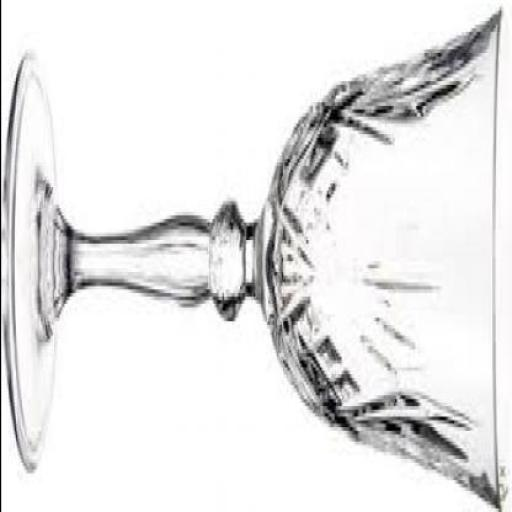glass: (0, 6, 511, 511)
